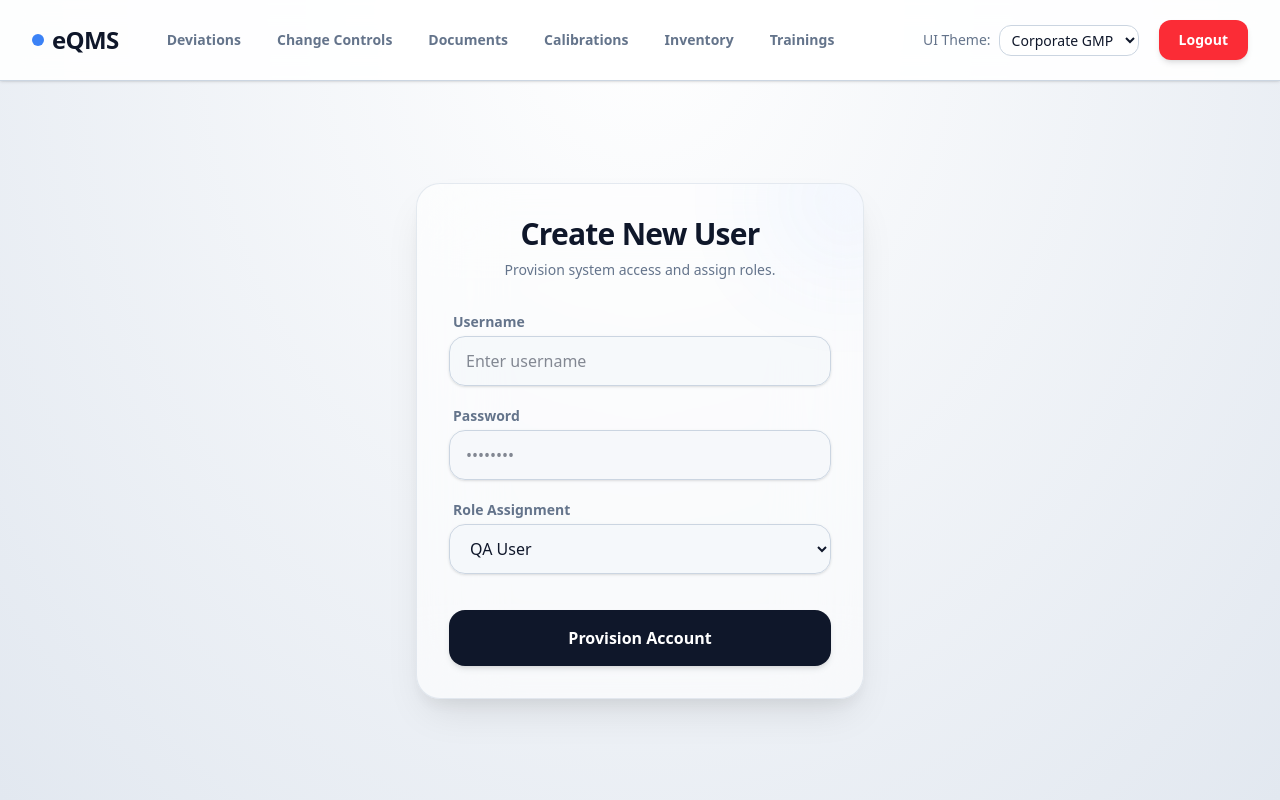
Test: User Registration Page › Authenticated Admin State › should successfully provision a new user account
The image size is (1280, 800).
// Fill out the registration form
Type "new_qc_analyst" into the field with placeholder "Enter username". click: (640, 361)
box: x1=449 y1=336 x2=831 y2=386
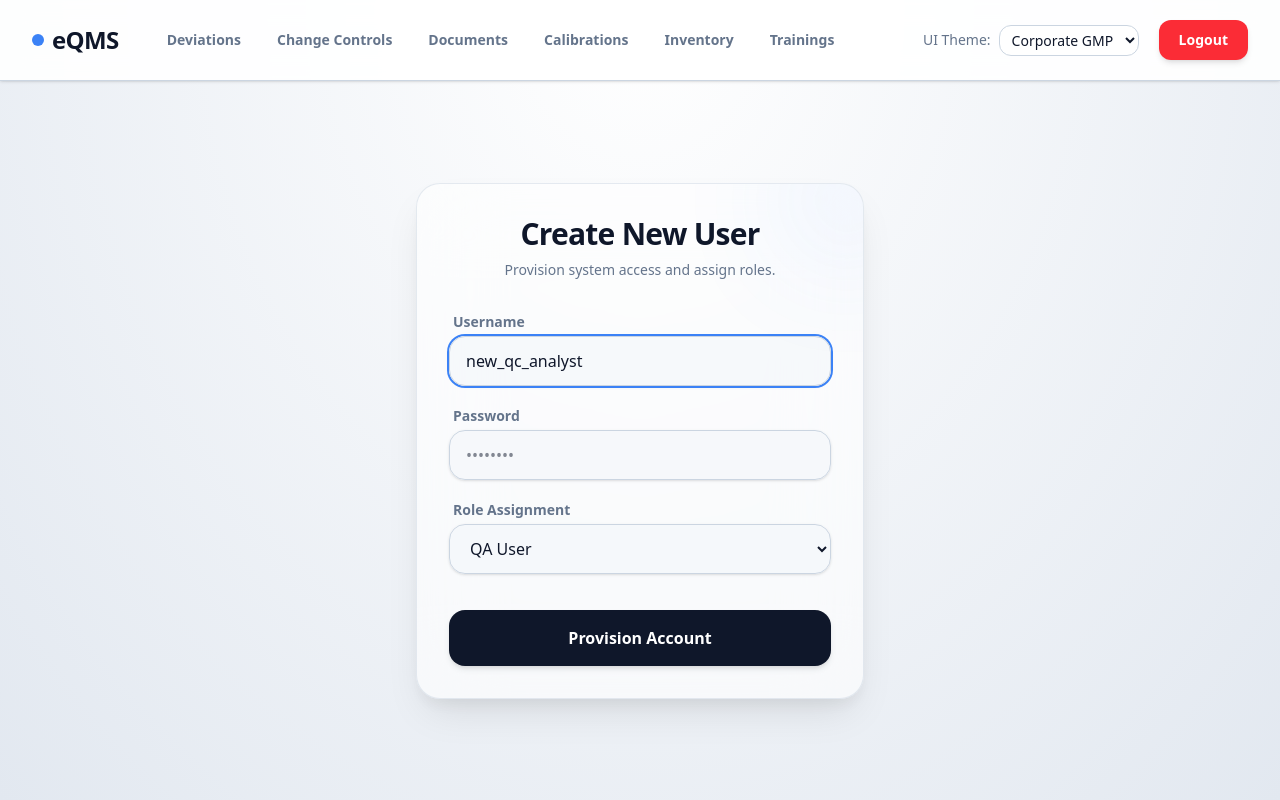
Type "SecurePass!2026" into the password field with placeholder "••••••••". click: (640, 455)
box: x1=449 y1=430 x2=831 y2=480
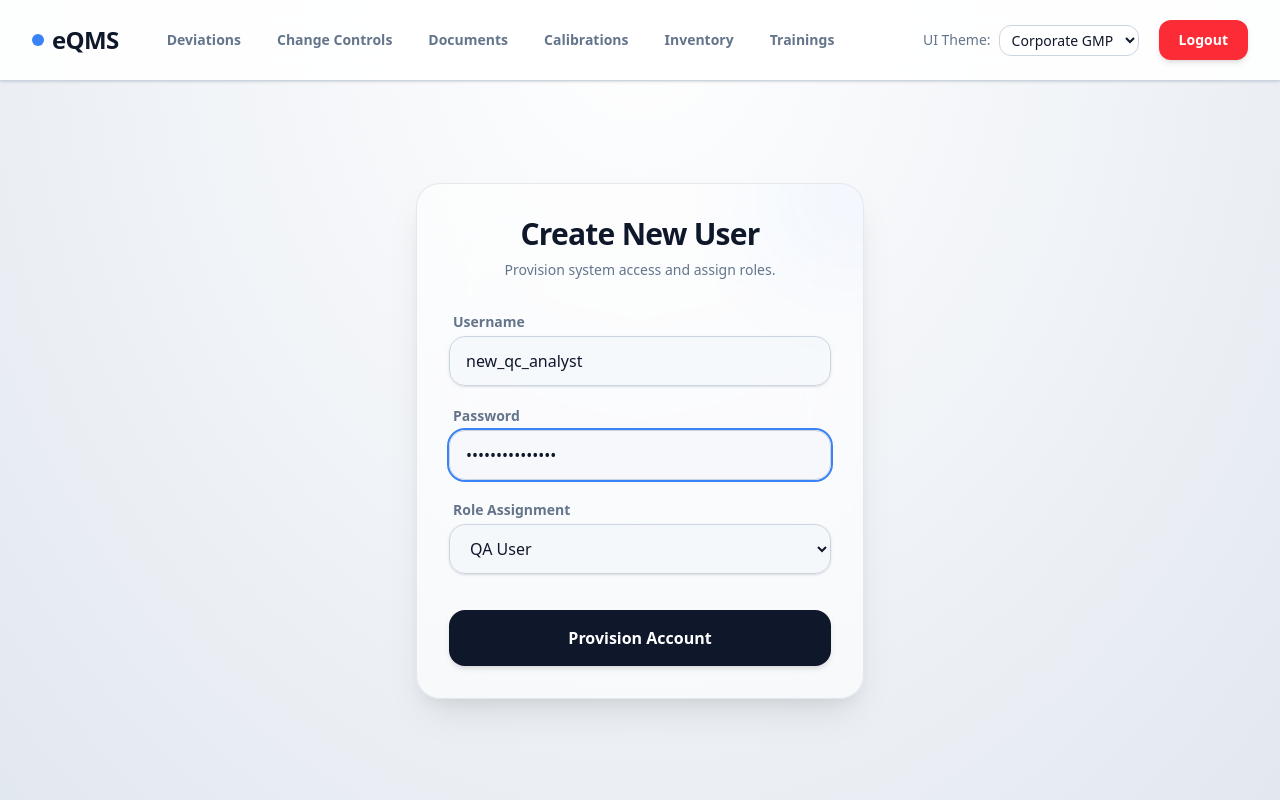
// Select the specific role (Using 'form select' to avoid Navbar conflicts)
Select "QC Analyst" in the dropdown below "Role Assignment". click: (640, 549)
box: x1=449 y1=524 x2=831 y2=574
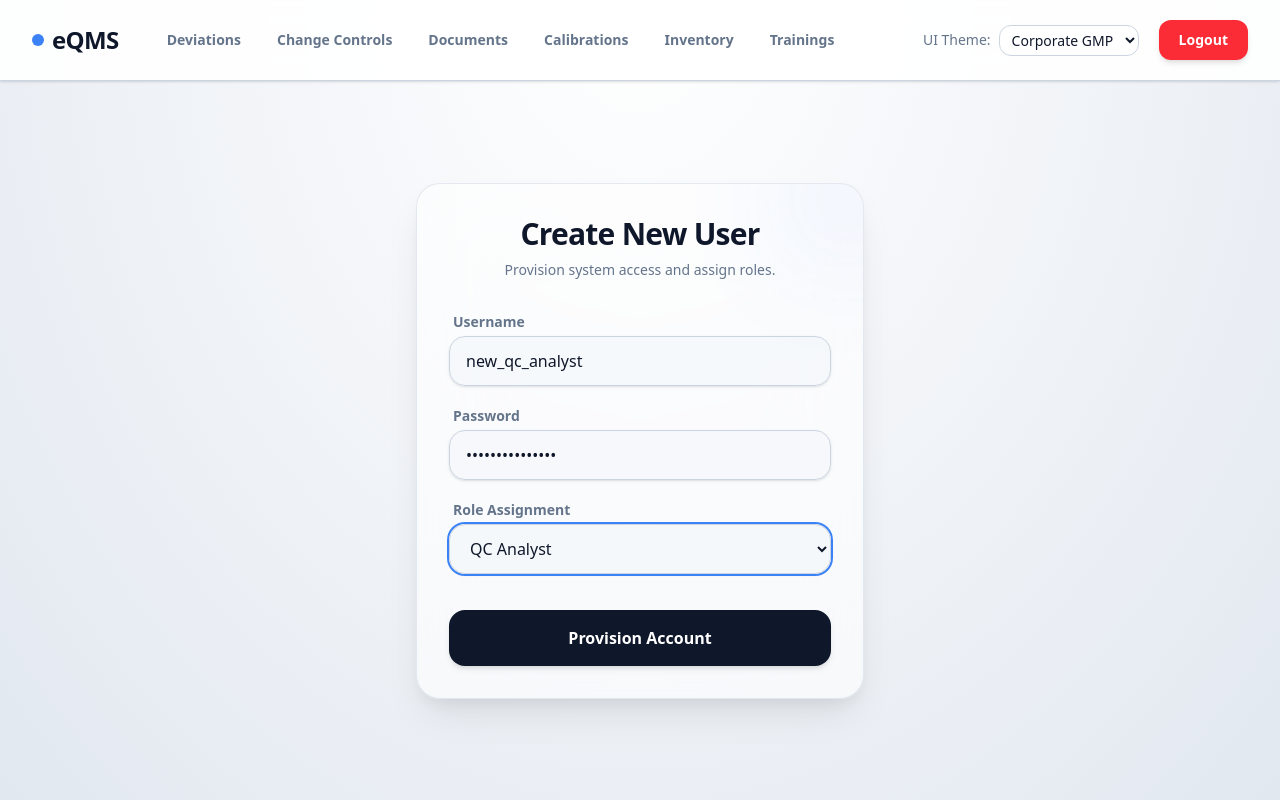
// Submit the form
Click the button "Provision Account". click: (640, 638)
box: x1=449 y1=610 x2=831 y2=666
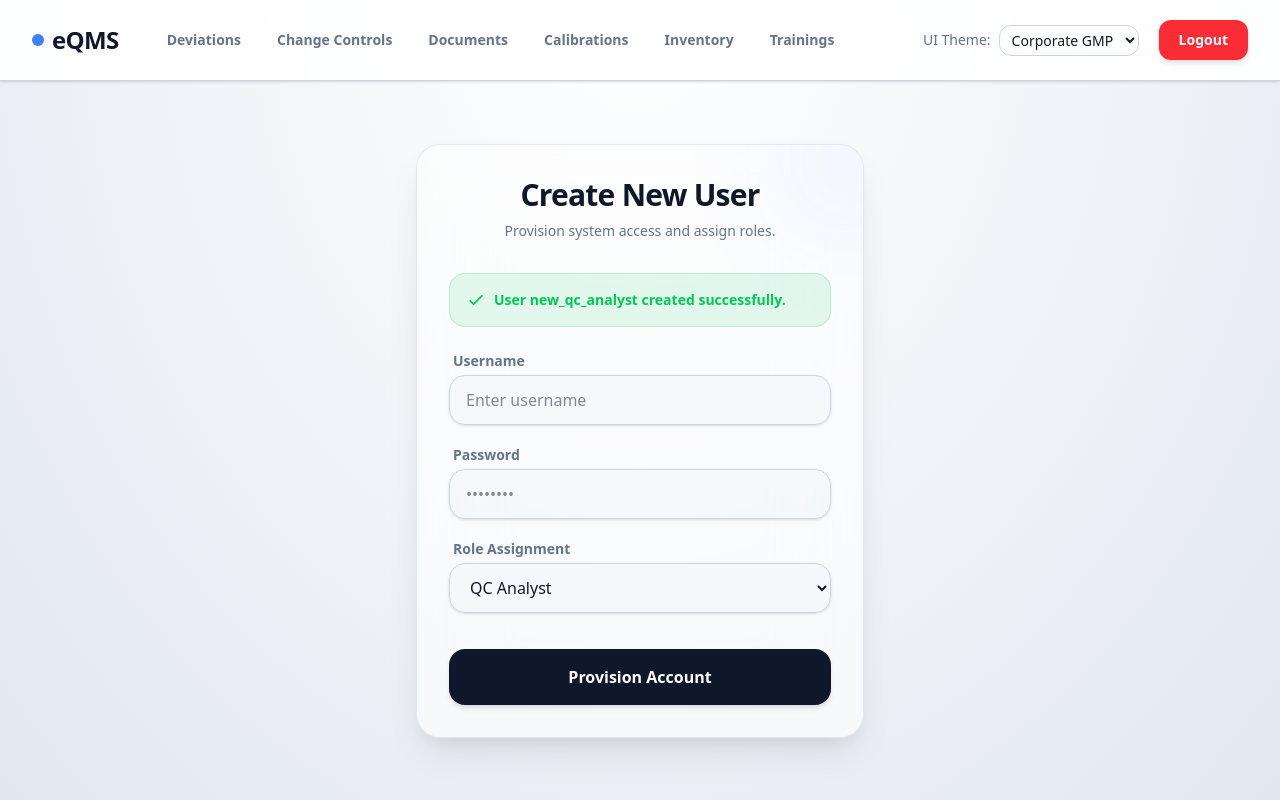
Result: the text "User new_qc_analyst created successfully." is shown at x1=449 y1=273 x2=831 y2=327
